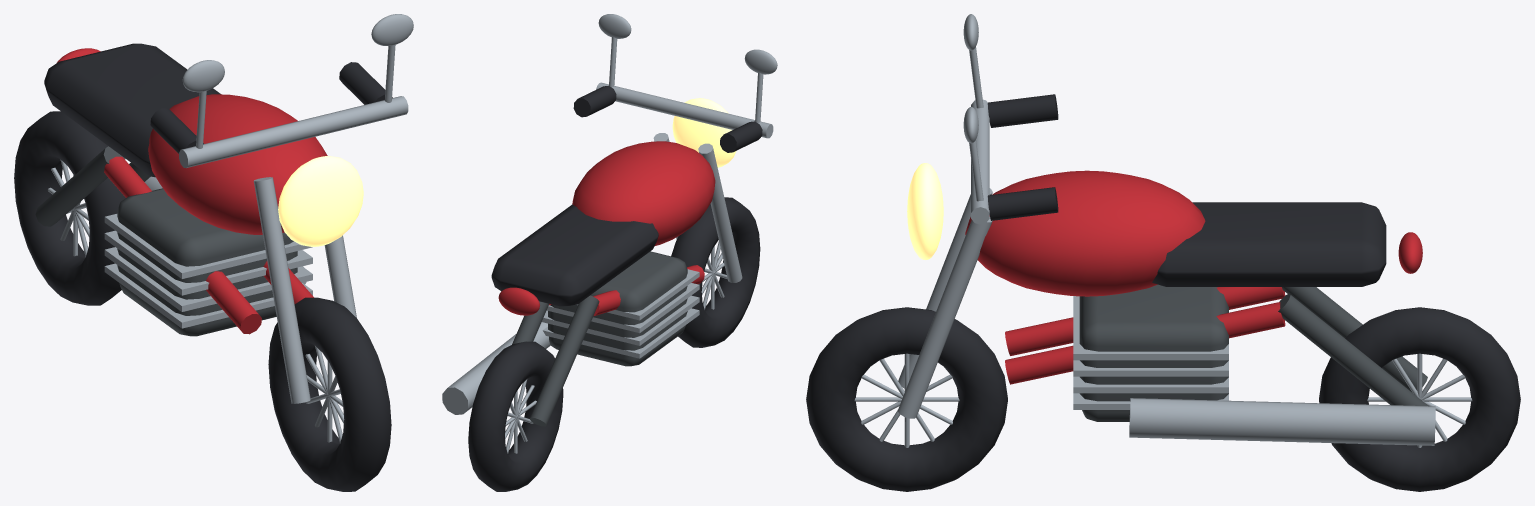
Rendered from motorcycle.glb.
The picture shows the model from 3 angles, left to right: view 1: azimuth 30°, elevation 25°; view 2: azimuth 150°, elevation 25°; view 3: azimuth 270°, elevation 25°; orthographic projection. The views are drawn at different scales.
Visible parts, largest first — view 1: Batch_Charcoal fabric, Batch_Brushed silver, Batch_Vermilion, Batch_Graphite metal, Batch_Warm lit windows; view 2: Batch_Charcoal fabric, Batch_Brushed silver, Batch_Vermilion, Batch_Graphite metal, Batch_Warm lit windows; view 3: Batch_Charcoal fabric, Batch_Brushed silver, Batch_Vermilion, Batch_Graphite metal, Batch_Warm lit windows.
Boxes of the visible parts, x1=… form: Batch_Charcoal fabric: x1=14, y1=43, x2=392, y2=491; Batch_Brushed silver: x1=48, y1=14, x2=413, y2=443; Batch_Vermilion: x1=57, y1=48, x2=327, y2=334; Batch_Graphite metal: x1=35, y1=146, x2=297, y2=336; Batch_Warm lit windows: x1=278, y1=156, x2=363, y2=246; Batch_Charcoal fabric: x1=468, y1=85, x2=762, y2=491; Batch_Brushed silver: x1=442, y1=14, x2=777, y2=453; Batch_Vermilion: x1=498, y1=141, x2=715, y2=316; Batch_Graphite metal: x1=512, y1=251, x2=687, y2=426; Batch_Warm lit windows: x1=672, y1=98, x2=736, y2=167; Batch_Charcoal fabric: x1=806, y1=94, x2=1520, y2=491; Batch_Brushed silver: x1=854, y1=14, x2=1472, y2=447; Batch_Vermilion: x1=965, y1=170, x2=1422, y2=384; Batch_Graphite metal: x1=1079, y1=284, x2=1427, y2=421; Batch_Warm lit windows: x1=907, y1=163, x2=943, y2=259.
Size of the model in its own units: 0.88 by 1.55 by 2.34.
